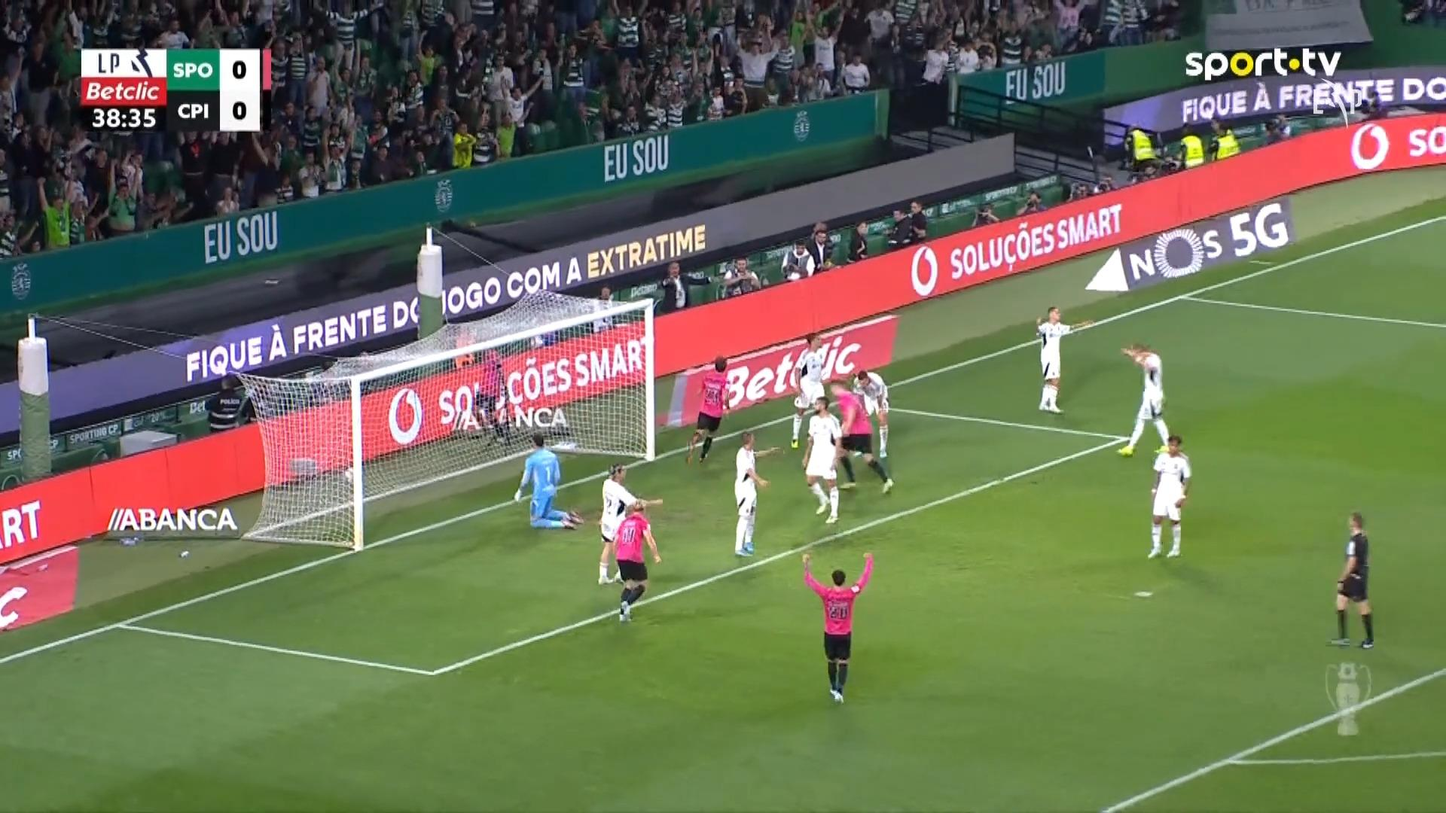goalkeeper: (512, 431, 584, 530)
player: (801, 550, 874, 703), (597, 461, 663, 585), (828, 379, 894, 493), (609, 500, 661, 623), (732, 431, 783, 556), (1035, 305, 1093, 413), (1116, 342, 1170, 455), (800, 396, 845, 524), (1147, 434, 1191, 559), (683, 355, 731, 464), (789, 331, 828, 448), (850, 368, 892, 461)
referee: (1327, 510, 1374, 648)
